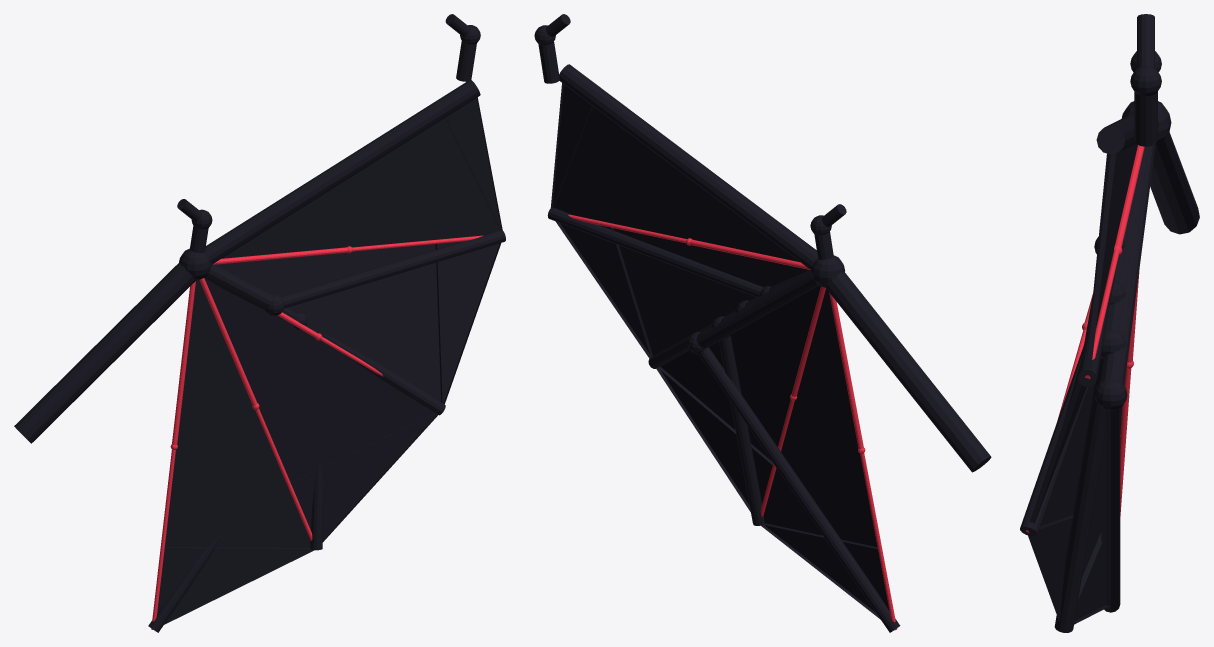
The model's file is AntiWingRight.obj.
3 renders of one model, left to right at view 1: azimuth 30°, elevation 25°; view 2: azimuth 150°, elevation 25°; view 3: azimuth 270°, elevation 25°, orthographic. The views are drawn at different scales.
Parts seen in each view (by area): view 1: AntiWingRight; view 2: AntiWingRight; view 3: AntiWingRight.
Part boxes in pixels (box(x1,y1,x2,y2)): AntiWingRight: box(14, 14, 505, 632); AntiWingRight: box(534, 14, 991, 632); AntiWingRight: box(1020, 14, 1199, 632).
Bounding box in the file's own units: 6.81 × 7.61 × 1.53.
